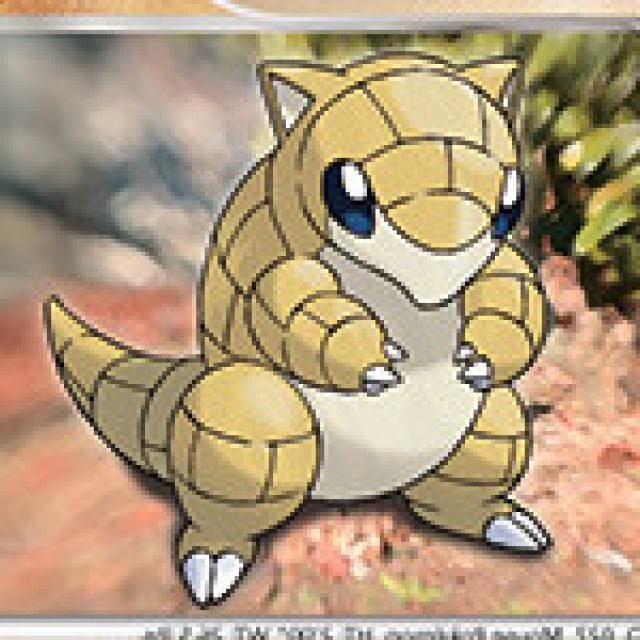Sandshrew: (85, 43, 568, 594)
